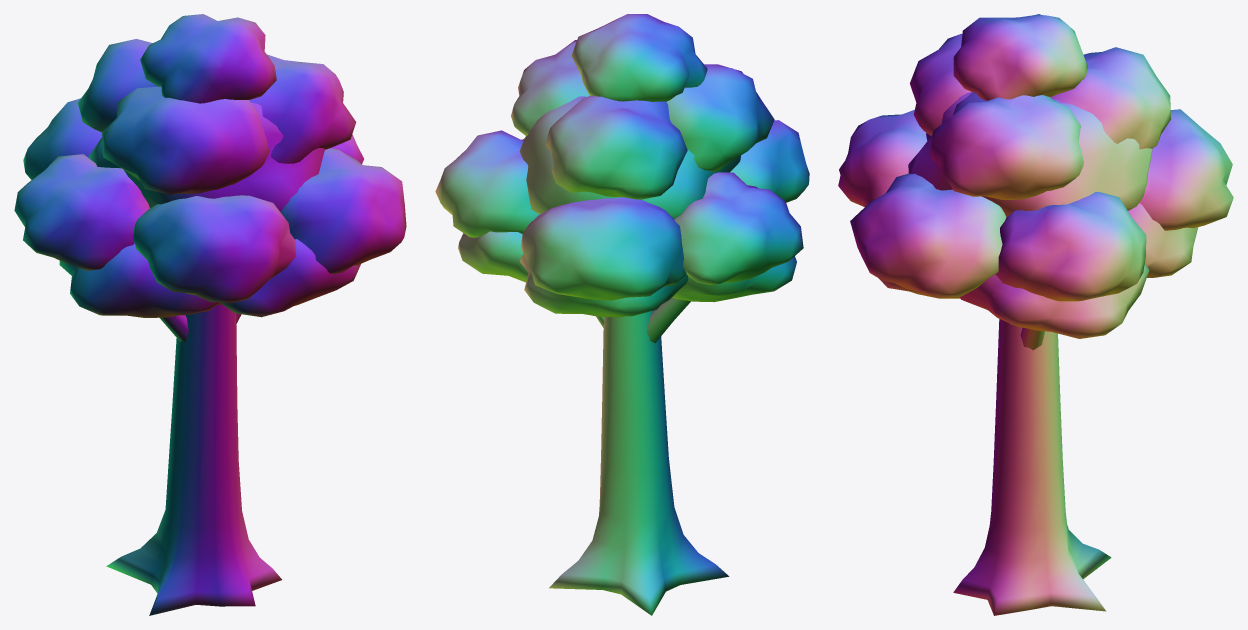
The model's file is SM_Foliage_Plains_Oak_A.fbx.
The picture shows the model from 3 angles, left to right: view 1: azimuth 30°, elevation 25°; view 2: azimuth 150°, elevation 25°; view 3: azimuth 270°, elevation 25°; orthographic projection. The views are drawn at different scales.
Visible parts, largest first — view 1: SM_Foliage_Plains_Oak_A; view 2: SM_Foliage_Plains_Oak_A; view 3: SM_Foliage_Plains_Oak_A.
Part boxes in pixels (x1,y1,x2,y2): SM_Foliage_Plains_Oak_A: (14,14,406,615); SM_Foliage_Plains_Oak_A: (435,14,809,615); SM_Foliage_Plains_Oak_A: (838,14,1233,615).
Bounding box in the file's own units: 2.51 × 3.9 × 2.46.
